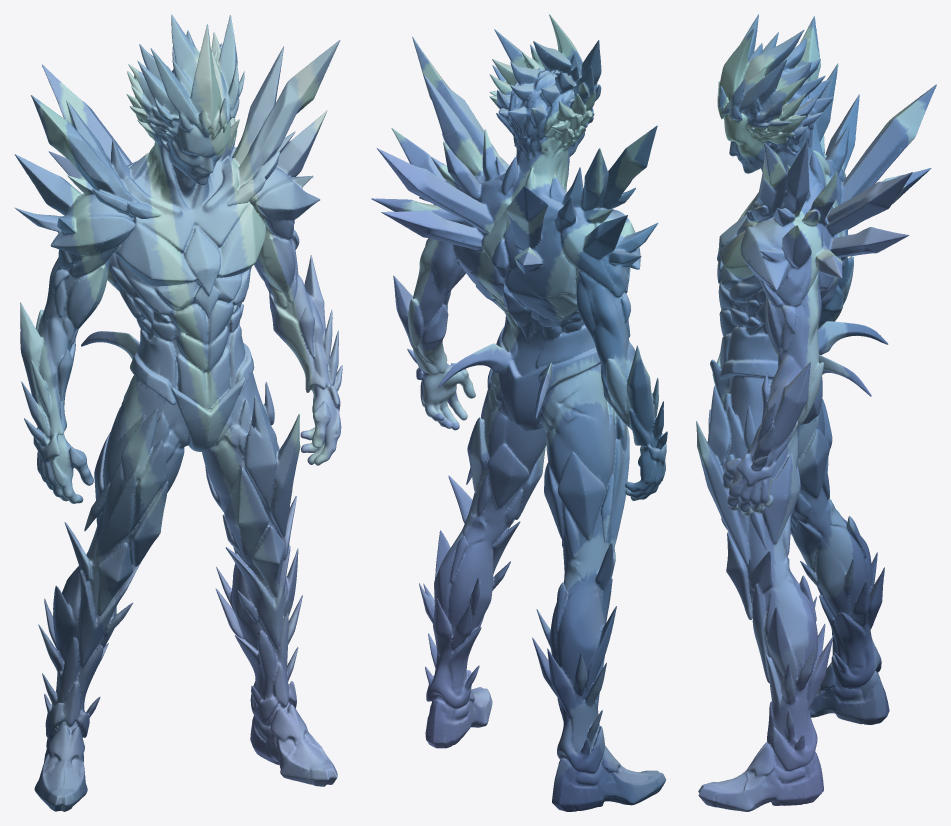
The model's file is player-level-04.glb.
3 renders of one model, left to right at view 1: azimuth 30°, elevation 25°; view 2: azimuth 150°, elevation 25°; view 3: azimuth 270°, elevation 25°, orthographic. The views are drawn at different scales.
Visible parts, largest first — view 1: world; view 2: world; view 3: world.
Part boxes in pixels (x1,y1,x2,y2): world: (14,14,342,811); world: (371,14,667,811); world: (696,14,936,811).
Bounding box in the file's own units: 0.765 × 1.9 × 0.5647.
